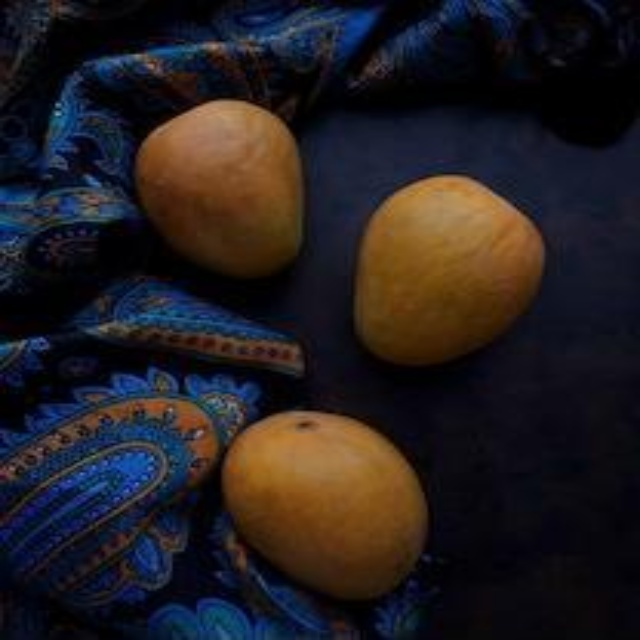mango: (347, 185, 553, 364), (231, 413, 429, 591), (143, 103, 308, 270)
